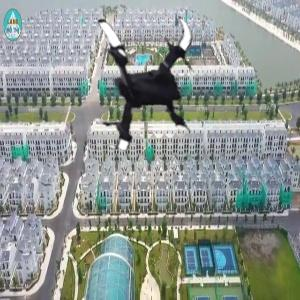drone: (63, 6, 227, 170)
